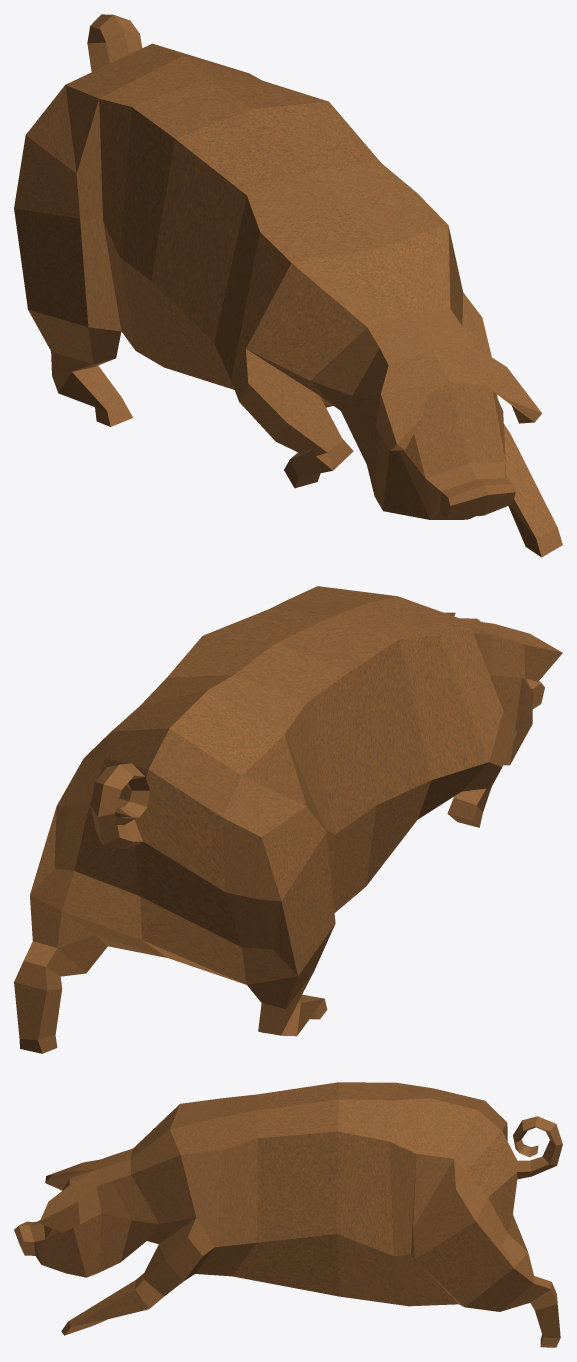
The model's file is Pig_000011.obj.
The picture shows the model from 3 angles, top to bottom: view 1: azimuth 30°, elevation 25°; view 2: azimuth 150°, elevation 25°; view 3: azimuth 270°, elevation 25°; orthographic projection. The views are drawn at different scales.
Parts seen in each view (by area): view 1: Pig_Cylinder; view 2: Pig_Cylinder; view 3: Pig_Cylinder.
Boxes of the visible parts, x1=… form: Pig_Cylinder: x1=14, y1=14, x2=562, y2=557; Pig_Cylinder: x1=14, y1=586, x2=562, y2=1053; Pig_Cylinder: x1=14, y1=1082, x2=562, y2=1347.
Bounding box in the file's own units: 3.37 × 4.24 × 9.64.
Materials: 1 (1 with a texture image).
